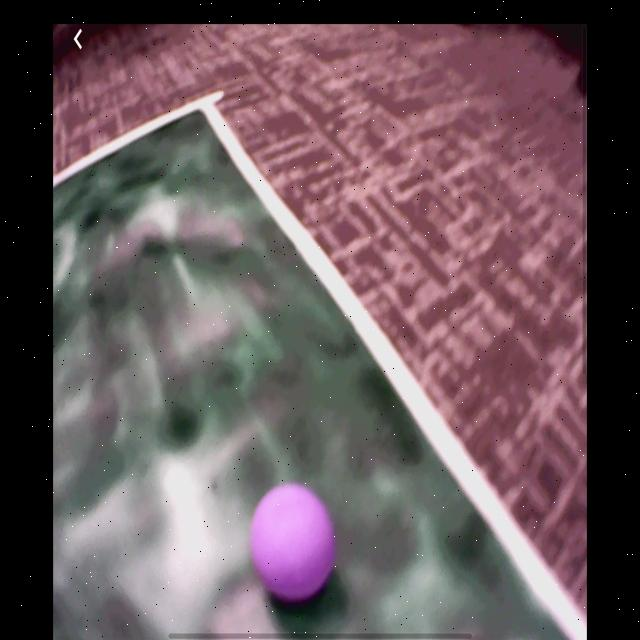ball: (252, 485, 333, 607)
